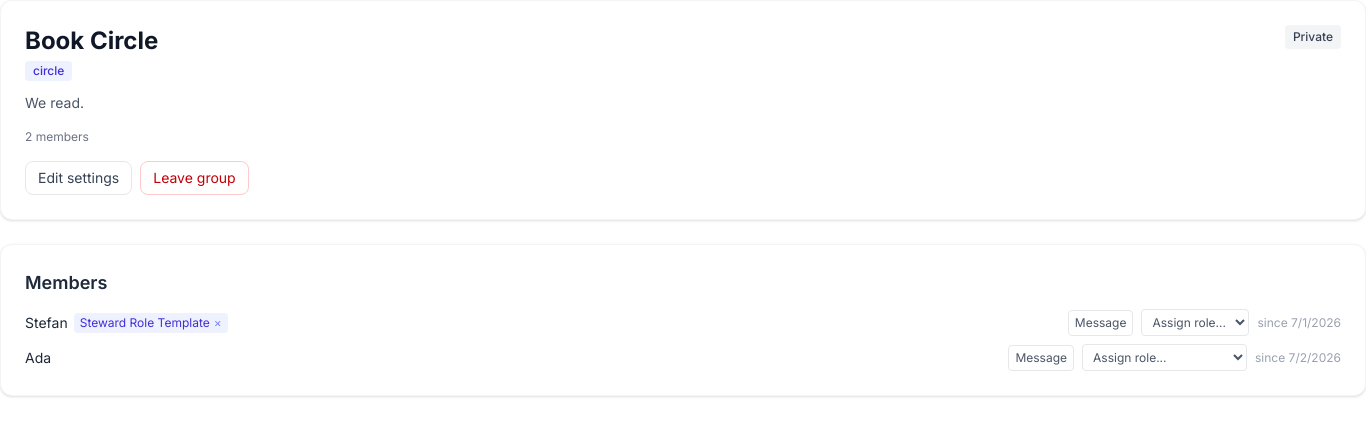
FEAT-H014 — member-list role chips + assignment (STORY-3) › surfaces the assignment-time wall in place — nothing changes visually
Select "Steward Role Template" in the dropdown with test id "assign-select-pg-ada" at (1164, 358), box [1082,344,1247,371]
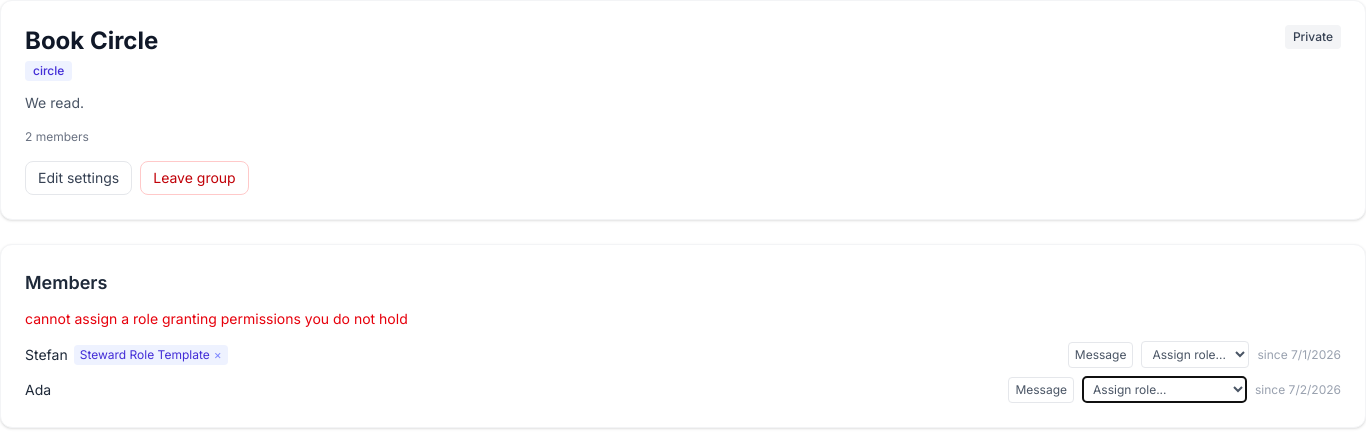
Check: the message shows "cannot assign a role granting", box [25,310,408,327]
